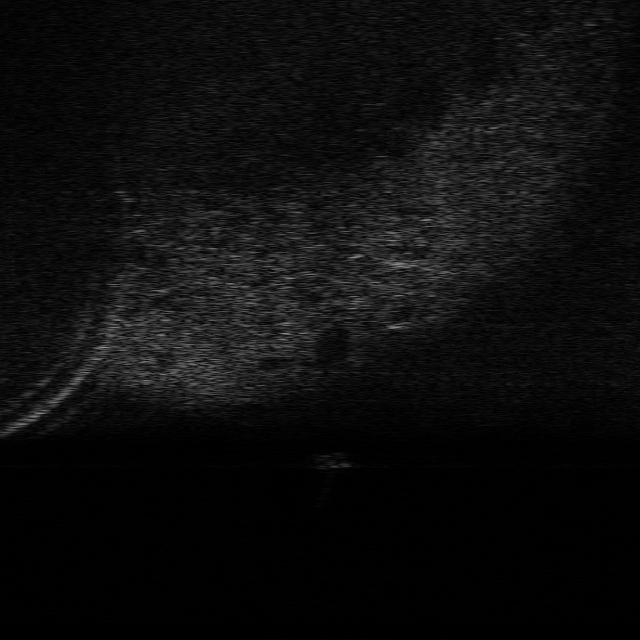cube: (312, 451, 352, 469)
